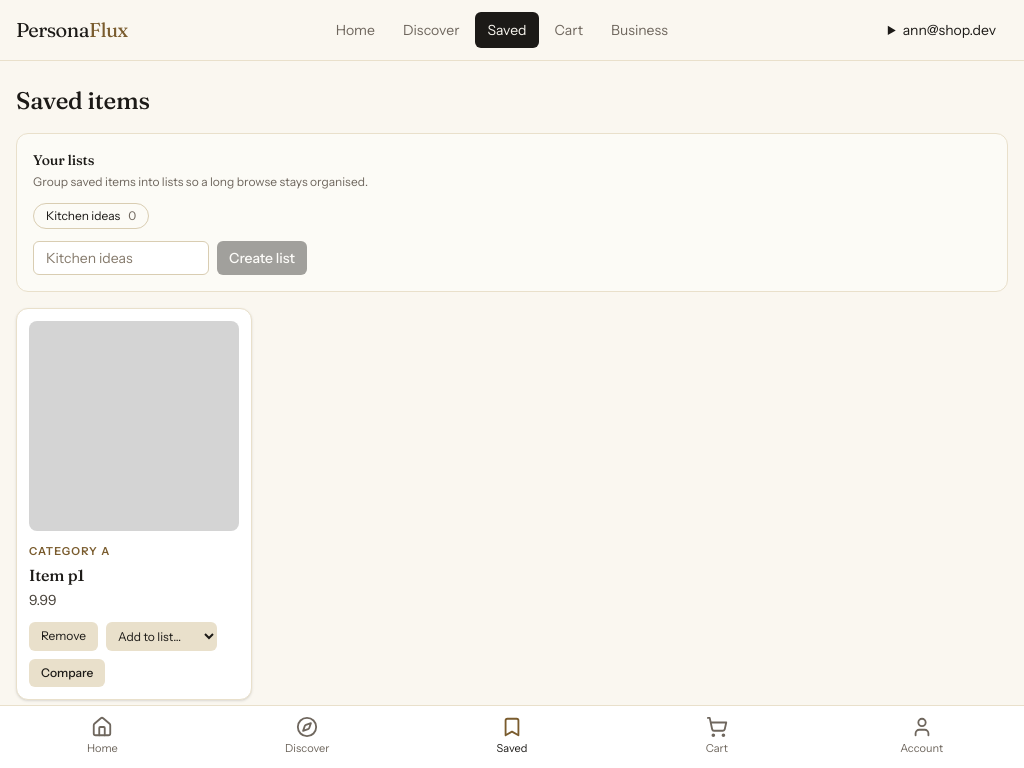
curated lists › puts the count back when the server refuses an addition
Select "Kitchen ideas" in the dropdown named "Add Item p1 to a list": (162, 636) [106, 622, 217, 650]
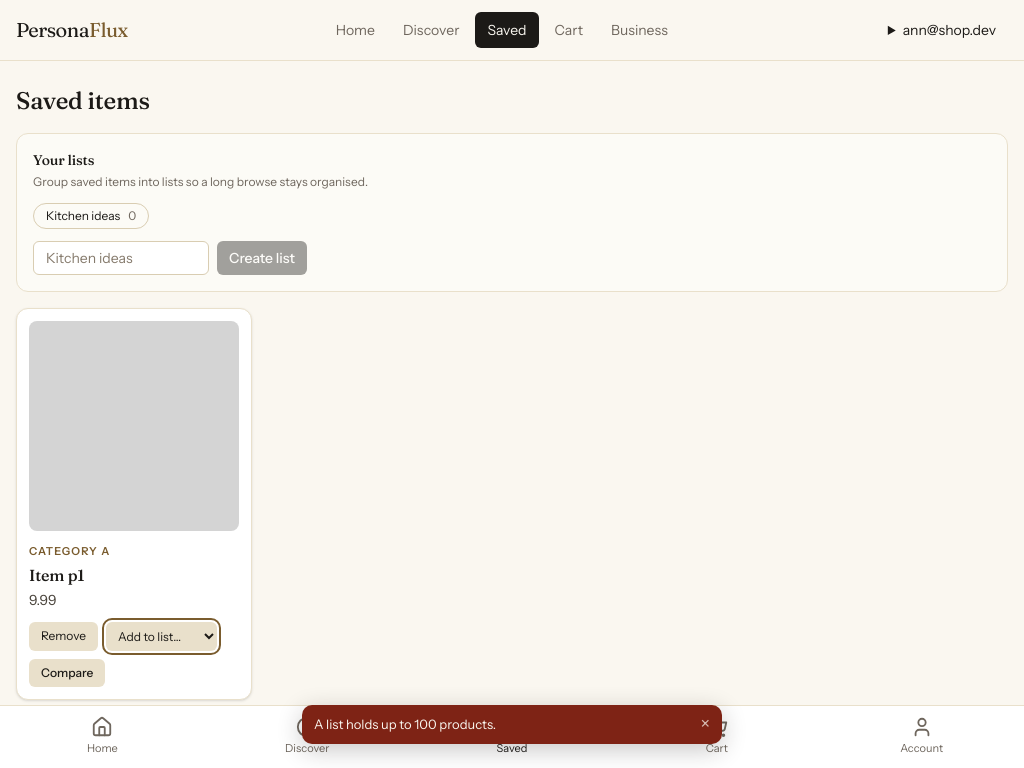
Expected: the link "Kitchen ideas 0" is shown, [33, 203, 149, 229]
Result: the text "A list holds up to 100 products." is shown at [314, 716, 496, 732]
